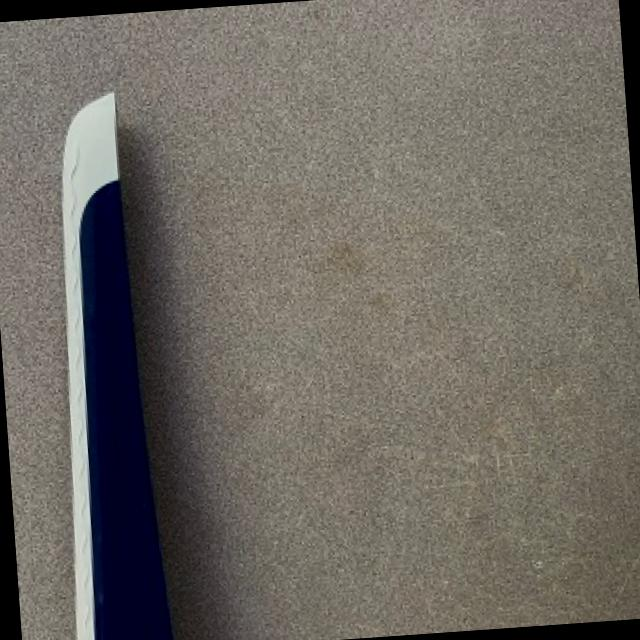healthy: (63, 91, 171, 640)
